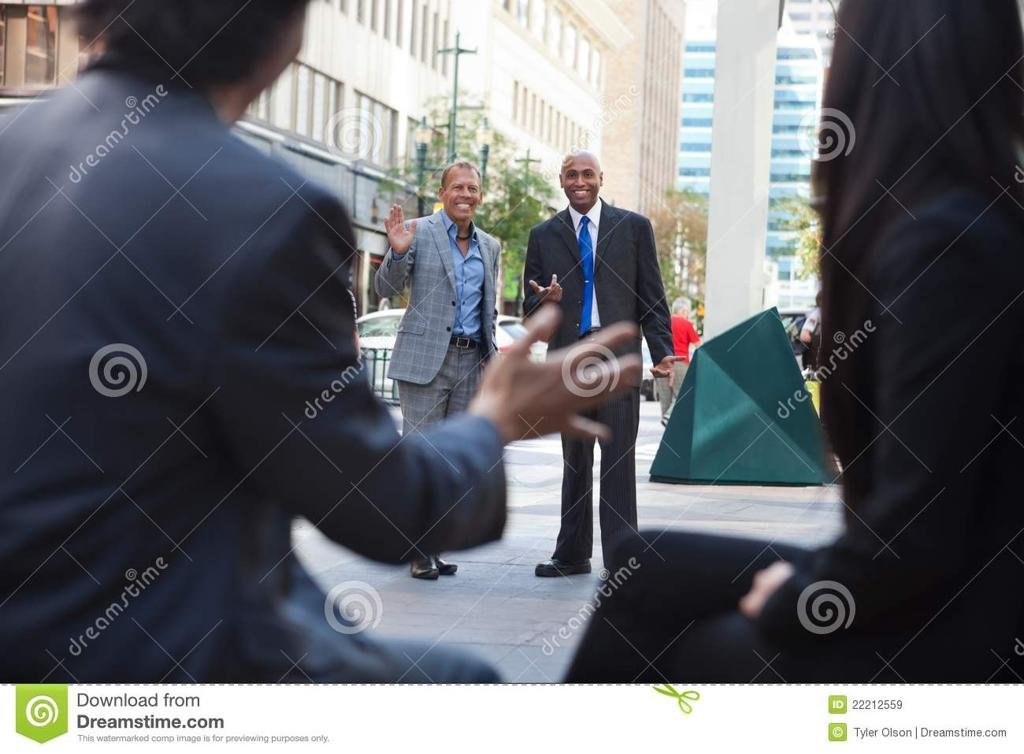face: (443, 167, 480, 219), (562, 160, 600, 204)
